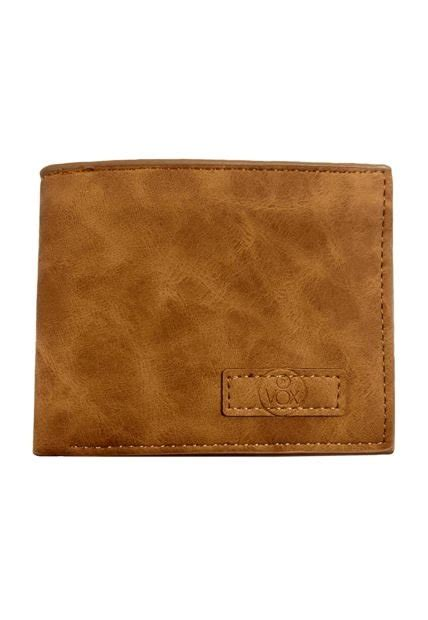gamuza: (31, 159, 398, 457)
